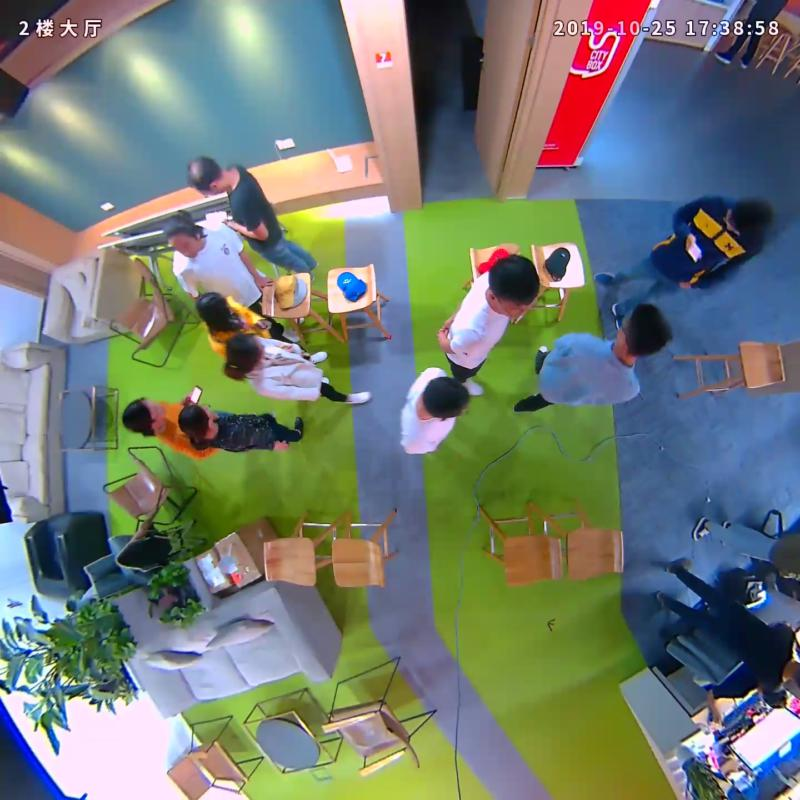head: (488, 254, 541, 318), (615, 302, 672, 357), (424, 375, 471, 421), (724, 199, 774, 238), (121, 395, 167, 431), (185, 157, 227, 196), (163, 215, 201, 258), (226, 334, 266, 370), (177, 403, 215, 435), (195, 291, 228, 323)
